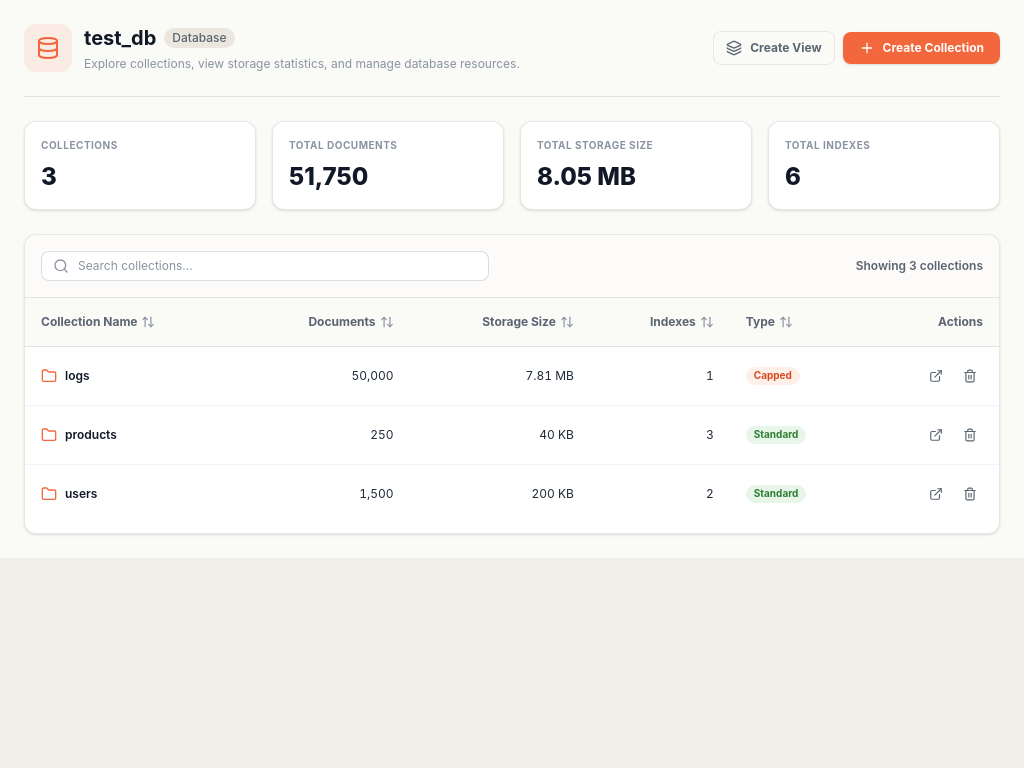
DatabaseCollectionsView › opens drop collection modal, requires typing confirmation name, and submits deletion
Click the button titled "Drop Collection" in the row of "1,500". click: click(970, 494)
box: [957,481,983,507]
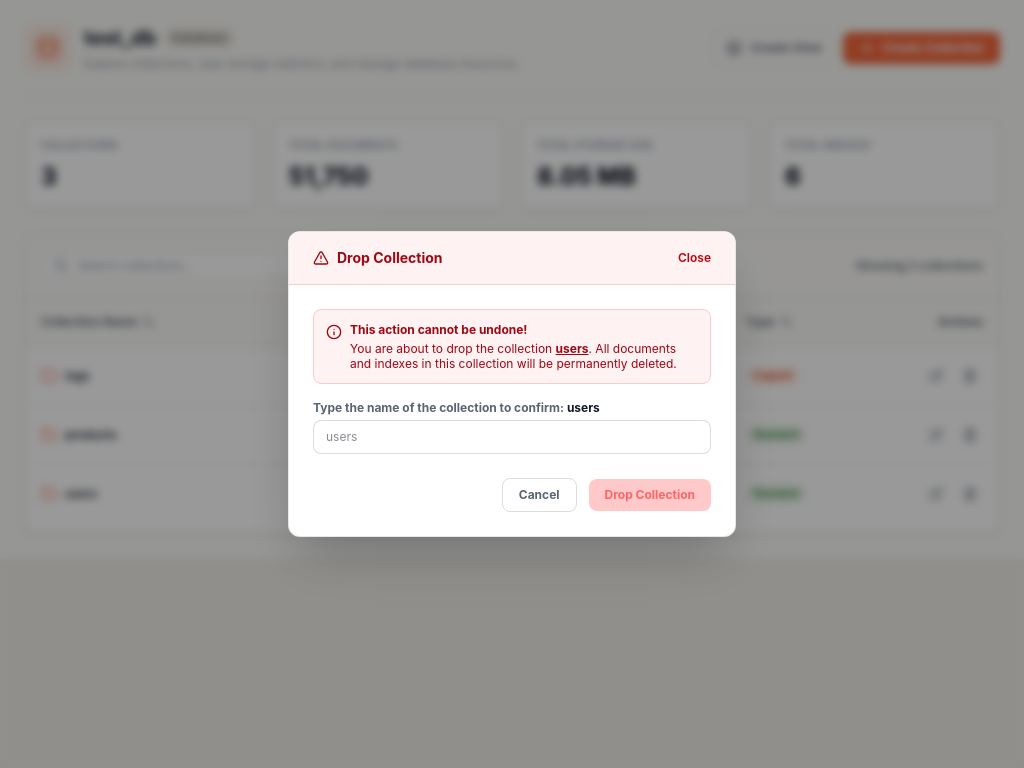
Result: the heading "Drop Collection" is shown at [313,248,442,268]
Result: the button "Drop Collection" is disabled at [588,479,711,511]
Note: Type incorrect name
Type "user" into the field with placeholder "users". click: (512, 437)
box: [313,420,711,454]
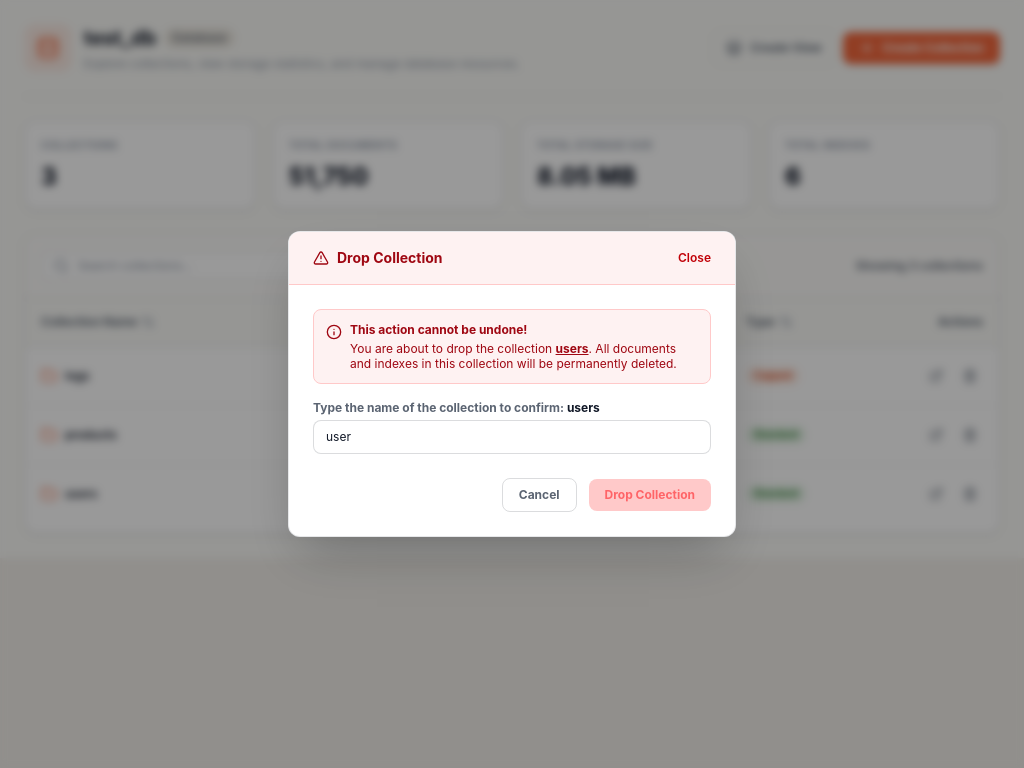
Result: the button "Drop Collection" is disabled at [588,479,711,511]
Note: Type correct name
Replace the text in the field with placeholder "users" with "users". click: (512, 437)
box: [313,420,711,454]
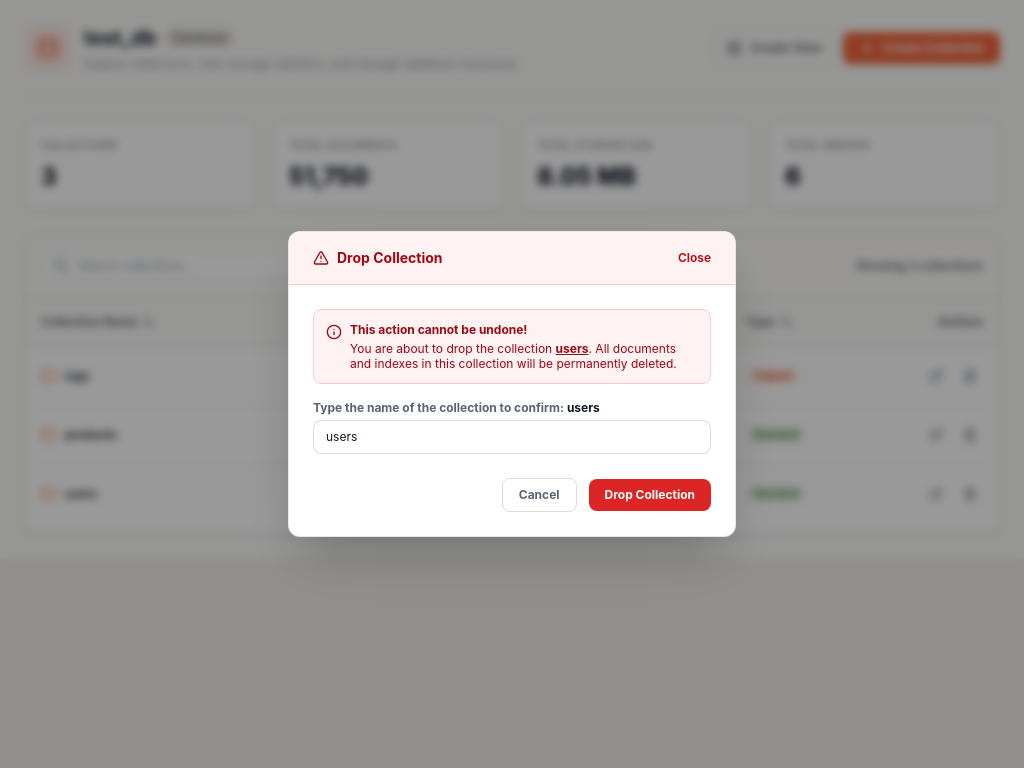
Result: the button "Drop Collection" is enabled
Click the button "Drop Collection". click: click(650, 495)
box: [588,479,711,511]
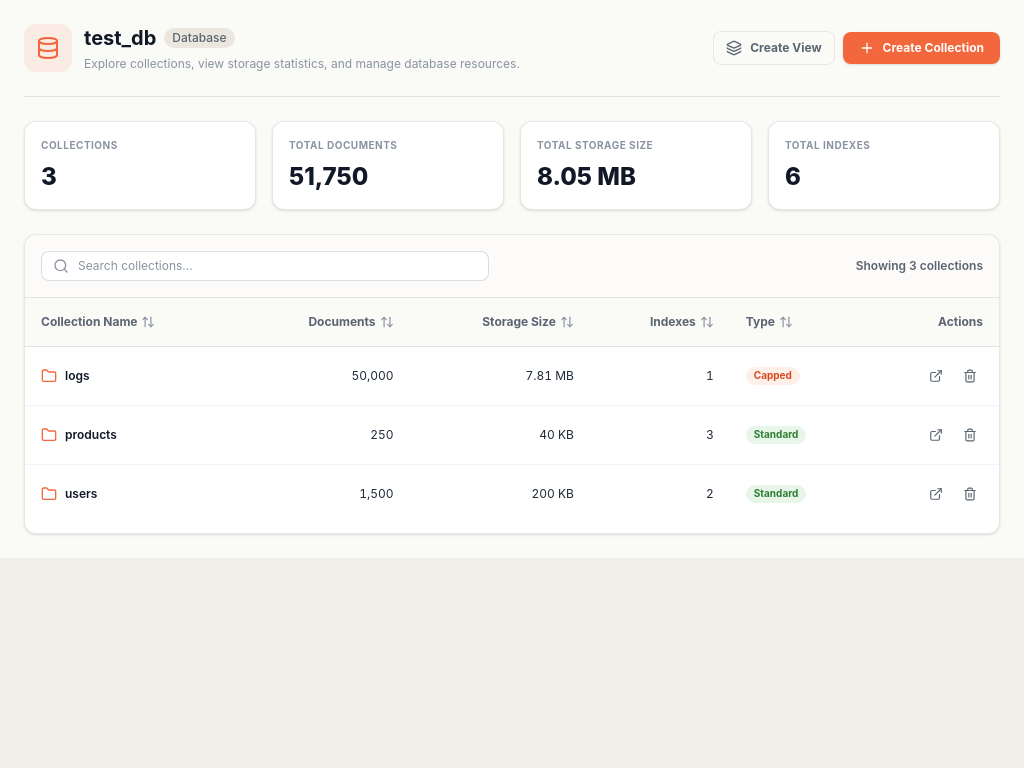
Result: the text "Drop Collection" is gone
